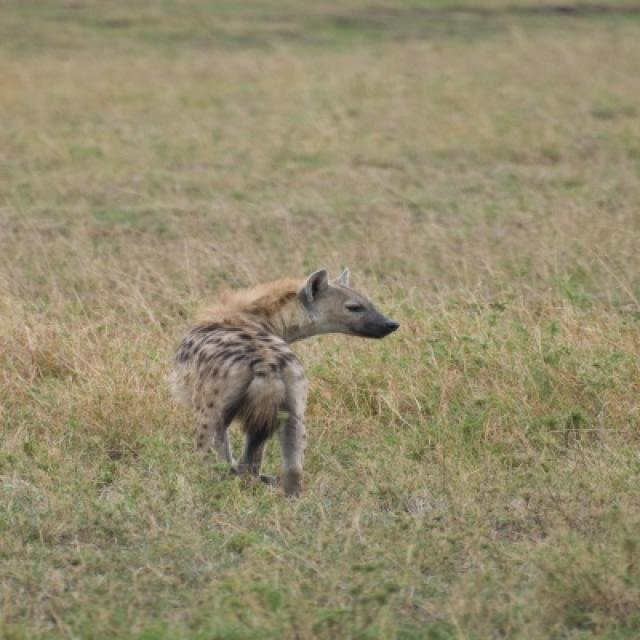hyena: (171, 274, 392, 498)
